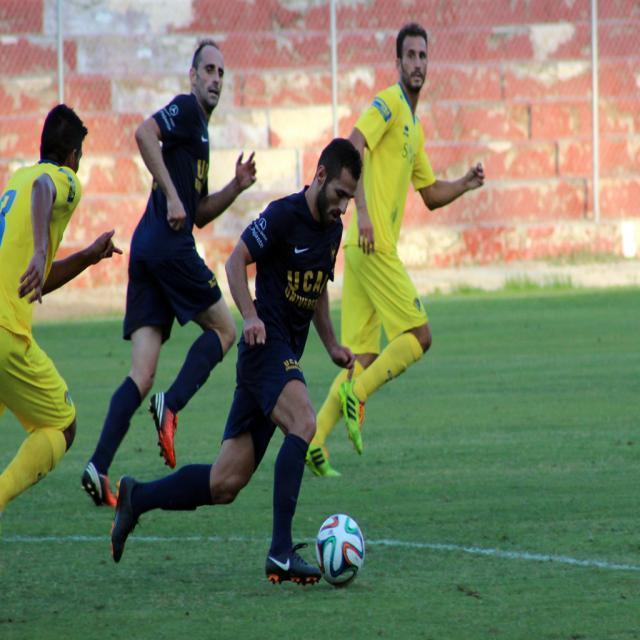football: (303, 508, 386, 592)
